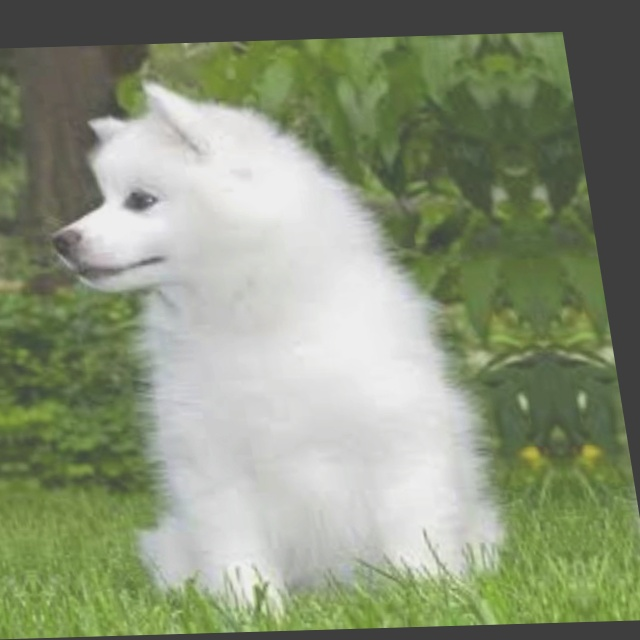dog: (26, 97, 530, 604), (555, 93, 640, 588)
